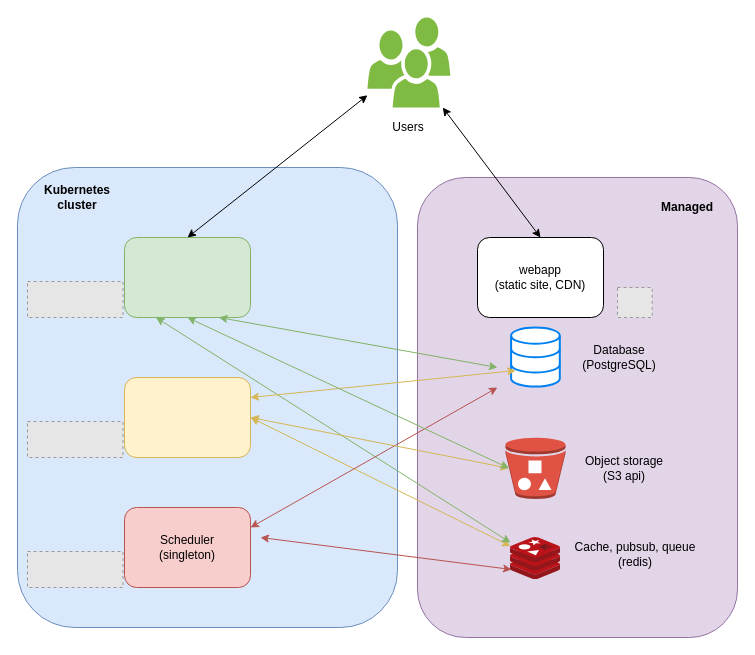
The diagram is 755 pixels wide and 655 high, and some of its shapes have lost their labels. Grey dashed boxes stand in for pictures. The centre of each missing label's shape, as x and y in pixels:
Server (HTTP, SMTP, SSH, Websocket, horizontally scalable): point 187,277
Worker (horizontally scalable): point 187,417
